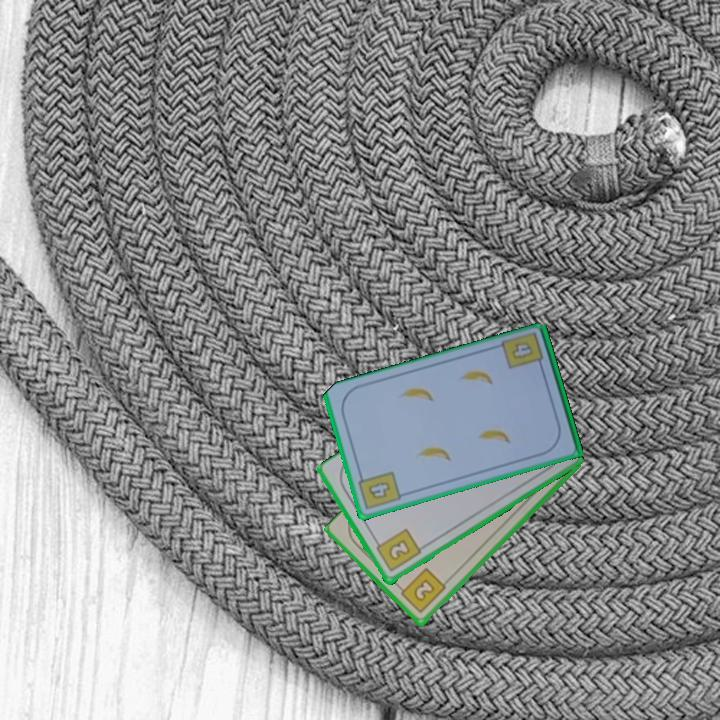2b: (394, 565, 449, 616), (371, 526, 424, 575)
4b: (355, 468, 404, 513), (508, 339, 536, 362)
